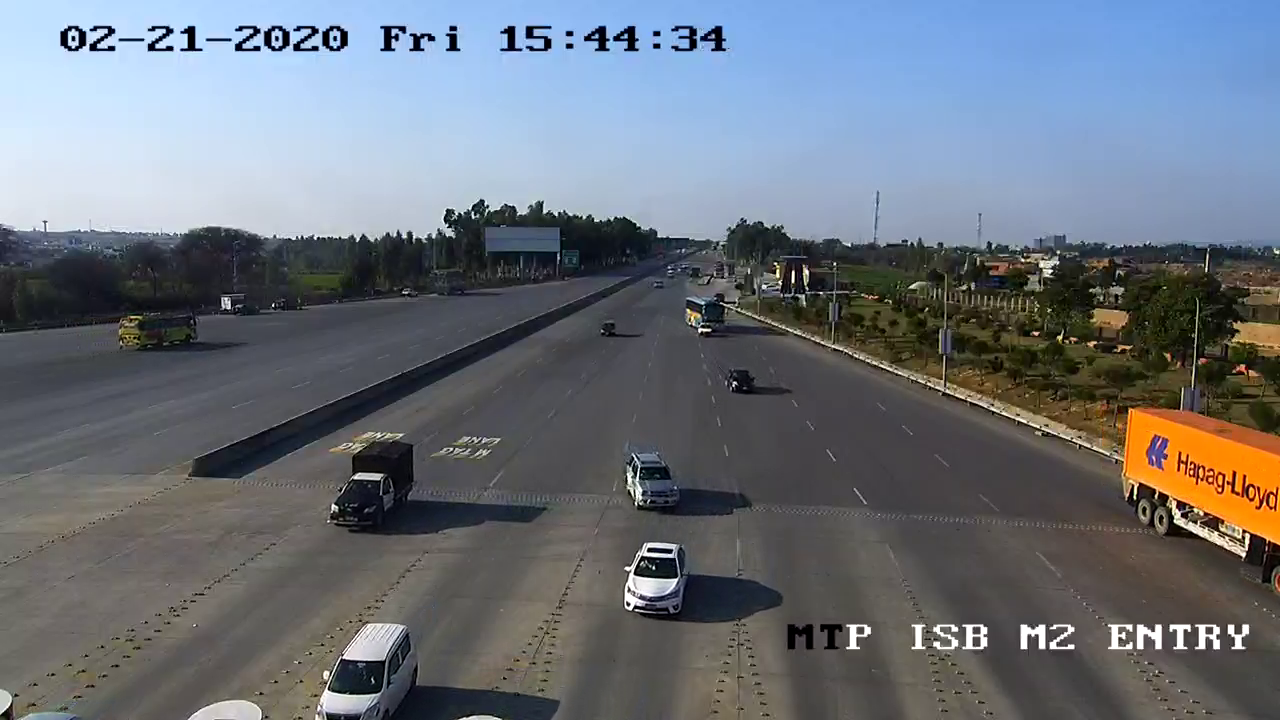f1: (306, 614, 430, 720), (323, 433, 418, 542), (617, 536, 696, 628), (617, 443, 686, 520)
